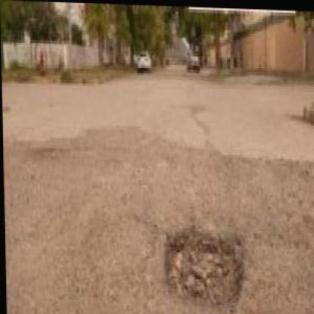Hueco: (162, 222, 245, 309)
